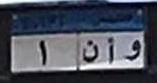1: (39, 38, 50, 66)
alif: (104, 35, 117, 65)
noon: (82, 38, 99, 65)
waw: (123, 40, 141, 63)
